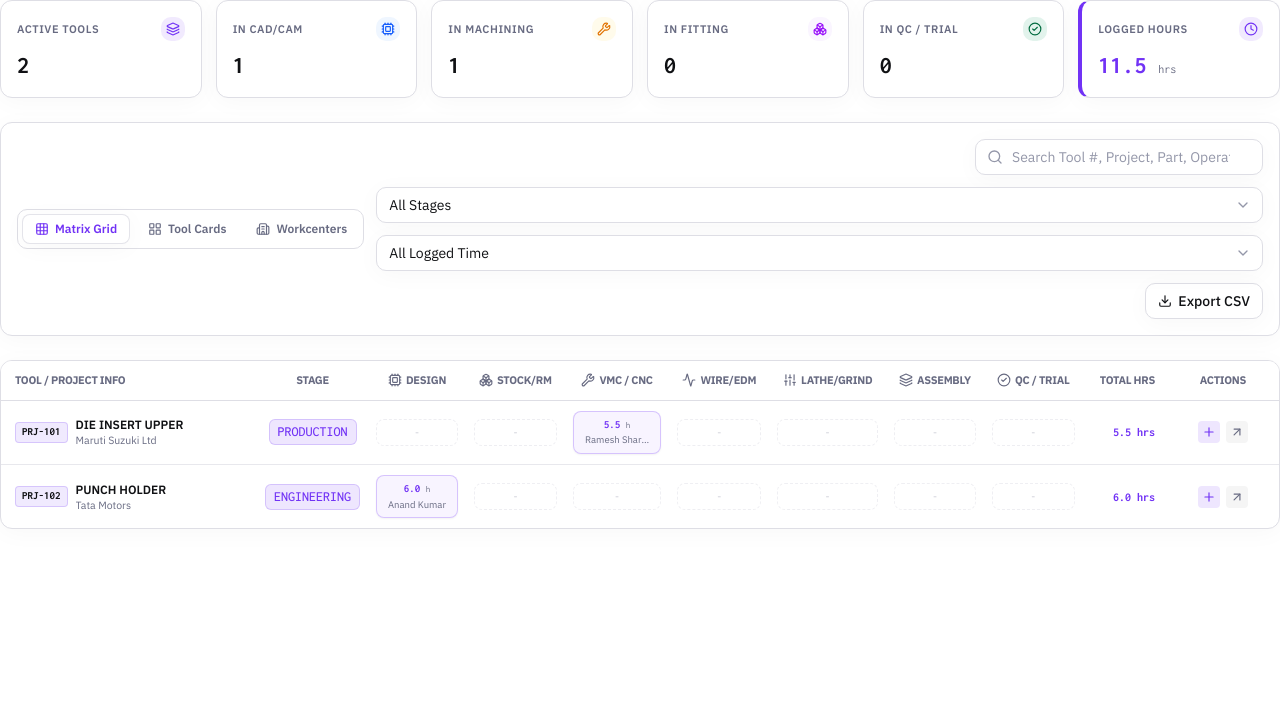
Test: ProjectToolMatrix Component › filters projects by search term
In the field with placeholder "Search Tool #, Project, Part, Operator...": {"x": 1119, "y": 157} x1=975 y1=139 x2=1263 y2=175, type "PUNCH"
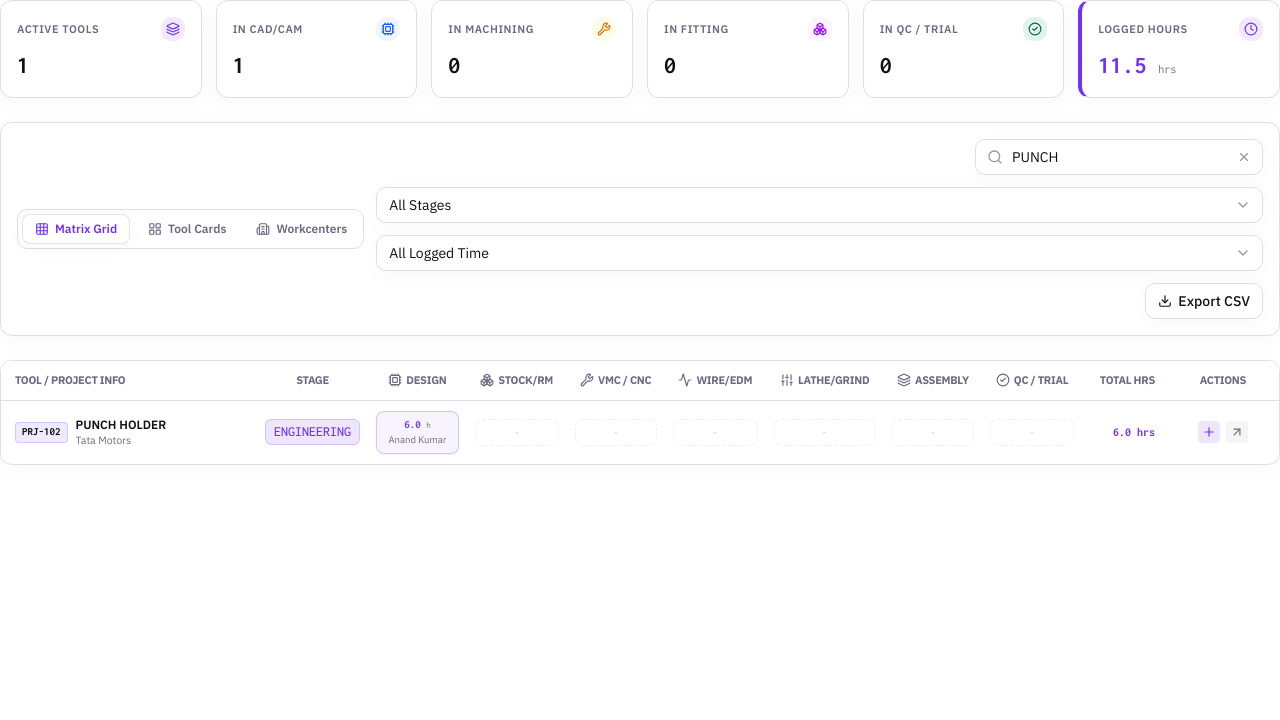
Expected: the text "PRJ-102" is shown, x1=15 y1=422 x2=68 y2=443
Now the text "PRJ-101" is gone
